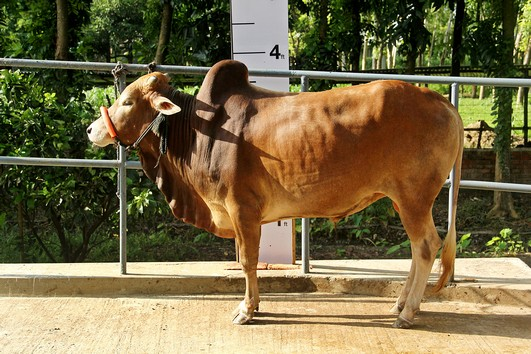cow: (80, 51, 471, 331)
